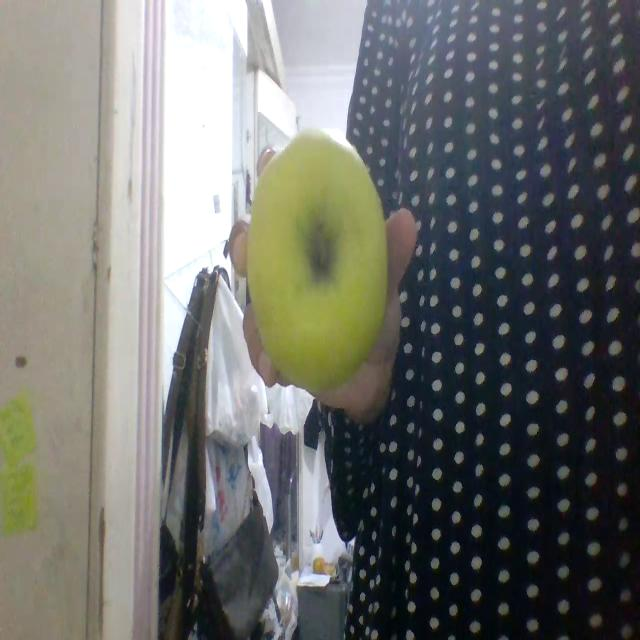50-_ripeness: (246, 130, 388, 386)
